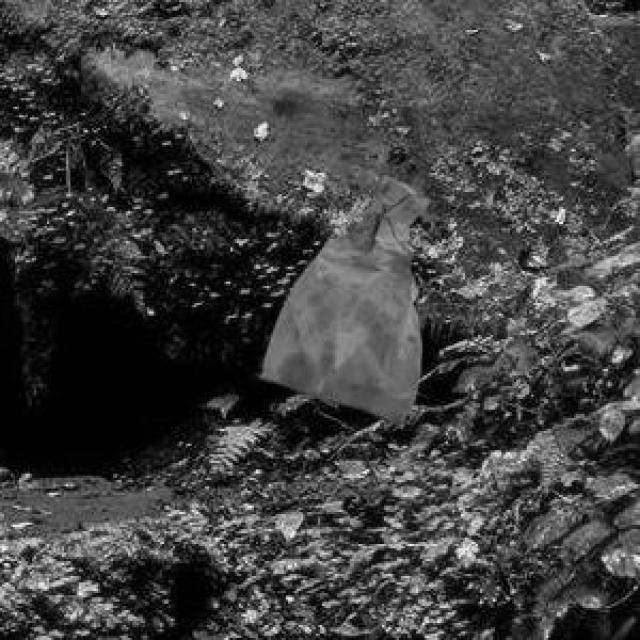paper: (256, 173, 427, 422)
